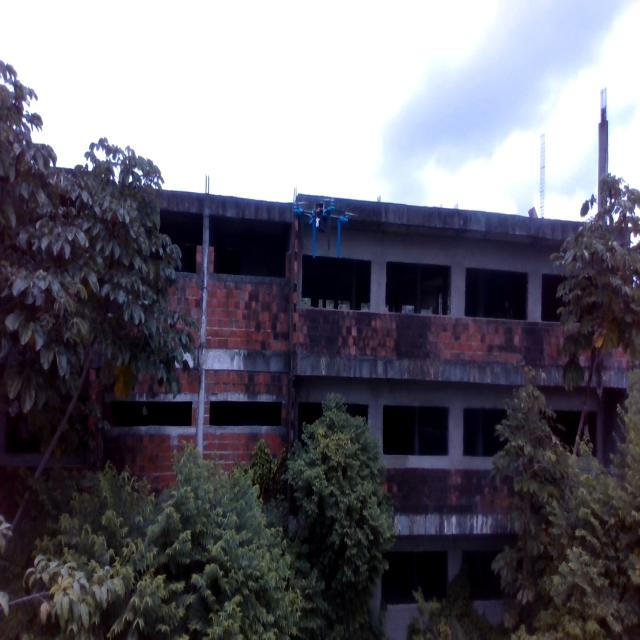-uav-: (288, 181, 358, 268)
